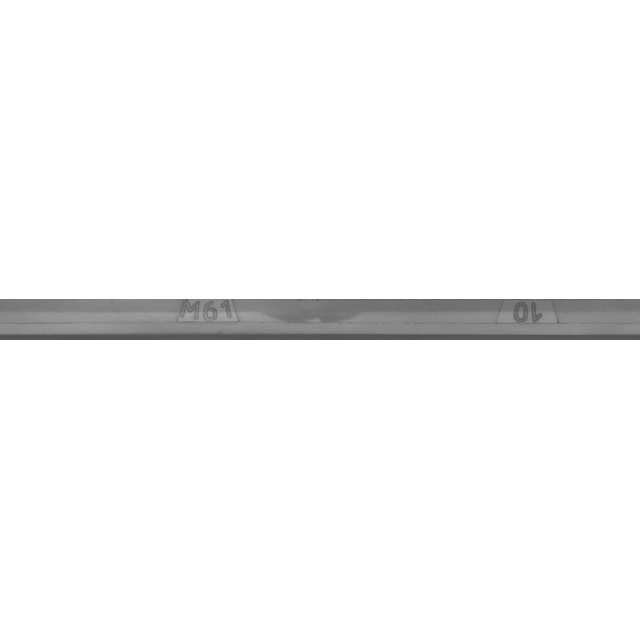mohao: (112, 270, 312, 370)
xuehao: (429, 270, 629, 370)
